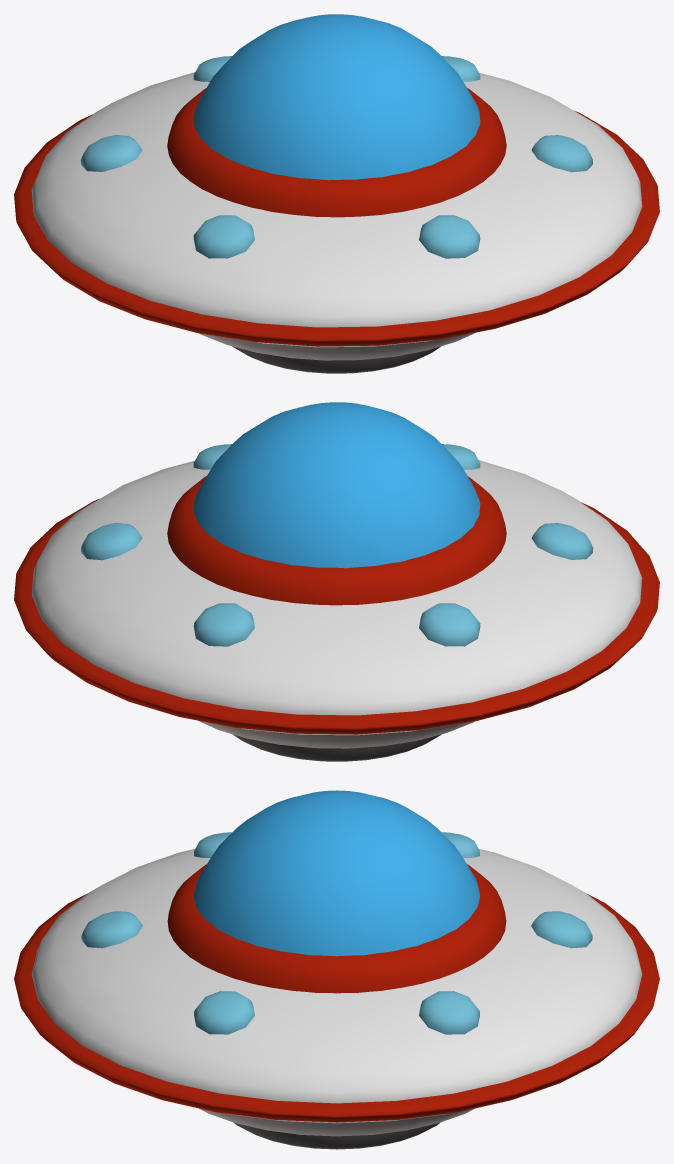
File: ufo2.gltf
The picture shows the model from 3 angles, top to bottom: view 1: azimuth 30°, elevation 25°; view 2: azimuth 150°, elevation 25°; view 3: azimuth 270°, elevation 25°; orthographic projection.
Visible parts, largest first — view 1: ufo_0; view 2: ufo_0; view 3: ufo_0.
Part boxes in pixels (box(x1,y1,x2,y2)): ufo_0: box(14, 14, 659, 373); ufo_0: box(14, 402, 659, 761); ufo_0: box(14, 790, 659, 1149).
Bounding box in the file's own units: 4.21 × 2.14 × 4.21.
